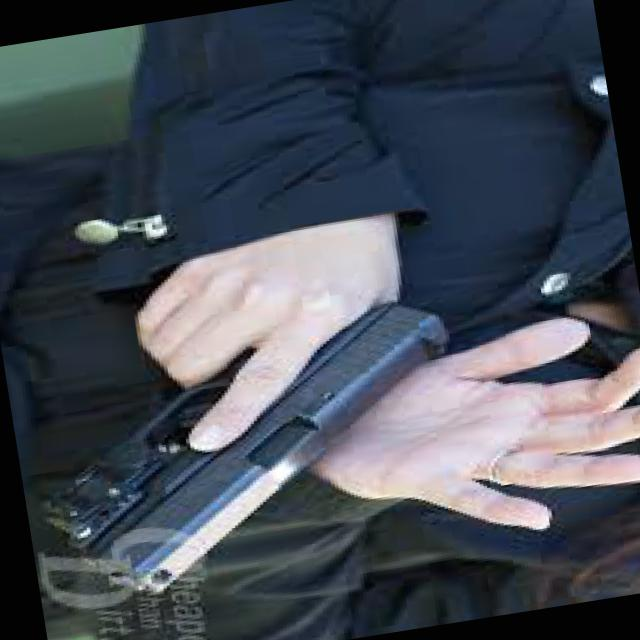handgun: (28, 261, 490, 604)
